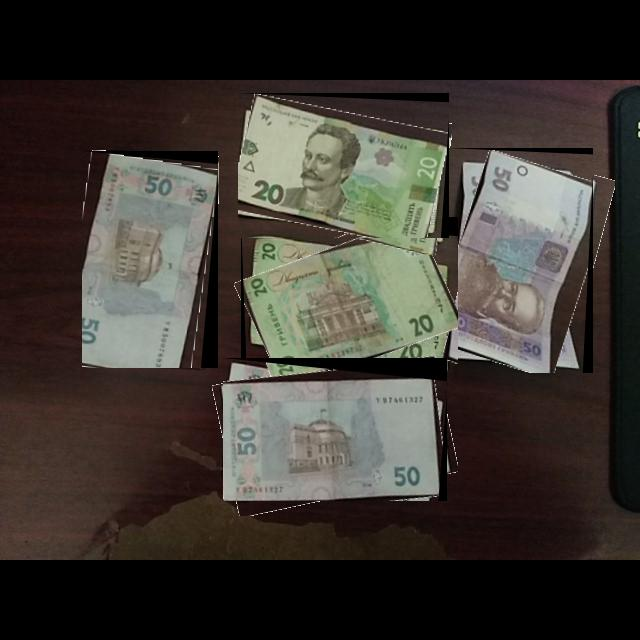20uah: (243, 230, 459, 380), (238, 94, 448, 239)
50uah: (446, 150, 593, 374), (82, 154, 219, 369), (223, 376, 442, 502)
